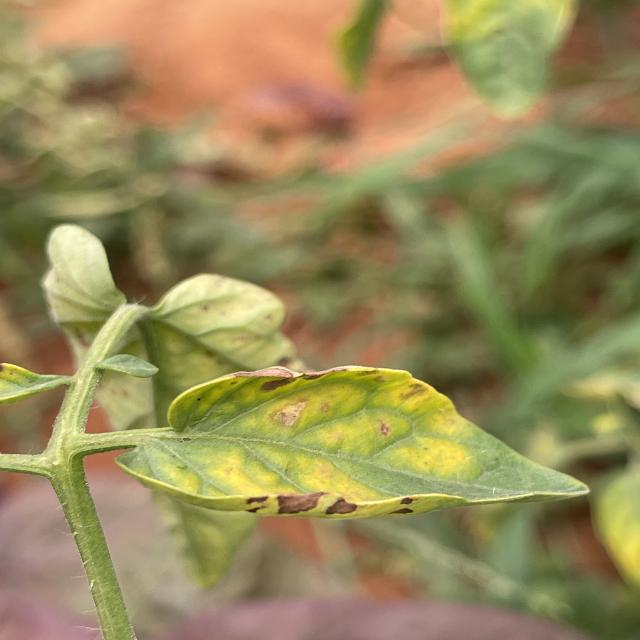tomato_early blight: (40, 222, 308, 580), (111, 362, 594, 523), (436, 2, 580, 116)
